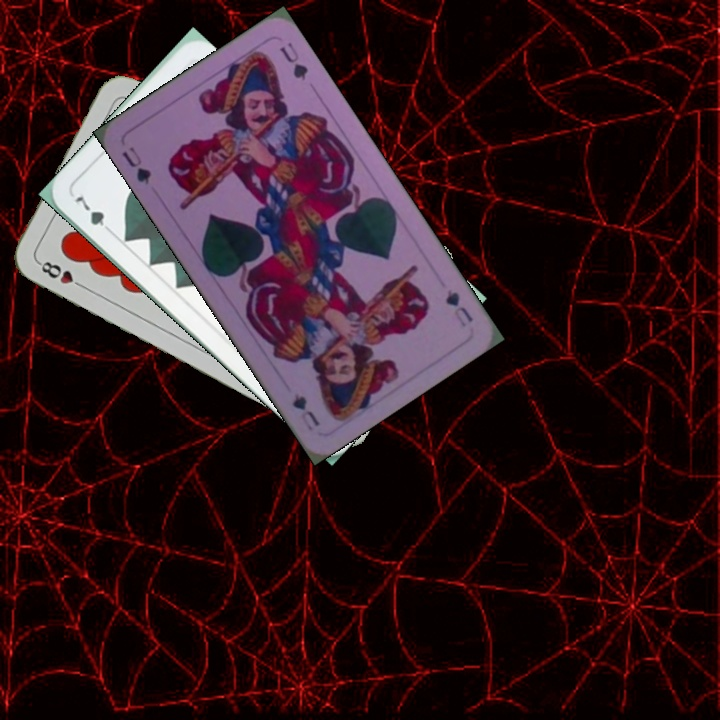G7: (70, 192, 116, 236)
GU: (117, 142, 154, 187), (441, 285, 476, 330)
H8: (34, 257, 88, 291)
